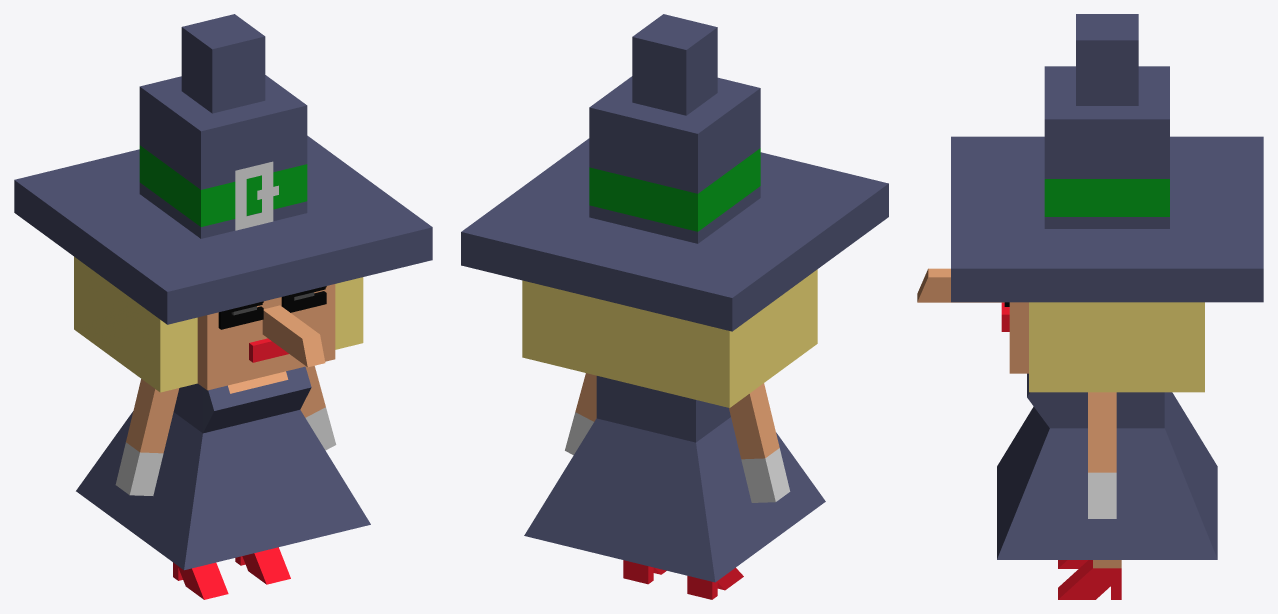
3 renders of one model, left to right at view 1: azimuth 30°, elevation 25°; view 2: azimuth 150°, elevation 25°; view 3: azimuth 270°, elevation 25°, orthographic. The views are drawn at different scales.
Parts seen in each view (by area): view 1: Ch_47_Head, Ch_47, Ch_47_Chest, Ch_47_Hand_L, Ch_47_Hand_R, Ch_47_Leg_L, Ch_47_Leg_R, Ch_47_Eye_03_L, Ch_47_Eye_03_R; view 2: Ch_47_Head, Ch_47, Ch_47_Chest, Ch_47_Hand_L, Ch_47_Hand_R, Ch_47_Leg_L, Ch_47_Leg_R; view 3: Ch_47_Head, Ch_47, Ch_47_Chest, Ch_47_Hand_R, Ch_47_Leg_R.
Part boxes in pixels (x1=…): Ch_47_Head: x1=14, y1=14, x2=432, y2=392; Ch_47: x1=76, y1=410, x2=370, y2=570; Ch_47_Chest: x1=173, y1=366, x2=311, y2=433; Ch_47_Hand_L: x1=115, y1=379, x2=179, y2=495; Ch_47_Hand_R: x1=300, y1=366, x2=336, y2=450; Ch_47_Leg_L: x1=173, y1=562, x2=228, y2=599; Ch_47_Leg_R: x1=235, y1=547, x2=290, y2=584; Ch_47_Eye_03_L: x1=218, y1=301, x2=263, y2=329; Ch_47_Eye_03_R: x1=281, y1=286, x2=326, y2=312; Ch_47_Head: x1=461, y1=14, x2=888, y2=407; Ch_47: x1=524, y1=417, x2=825, y2=582; Ch_47_Chest: x1=596, y1=376, x2=730, y2=442; Ch_47_Hand_L: x1=729, y1=383, x2=790, y2=502; Ch_47_Hand_R: x1=565, y1=373, x2=596, y2=454; Ch_47_Leg_L: x1=687, y1=567, x2=743, y2=599; Ch_47_Leg_R: x1=623, y1=560, x2=666, y2=584; Ch_47_Head: x1=917, y1=14, x2=1263, y2=392; Ch_47: x1=997, y1=392, x2=1217, y2=559; Ch_47_Chest: x1=1027, y1=373, x2=1164, y2=428; Ch_47_Hand_R: x1=1088, y1=392, x2=1116, y2=518; Ch_47_Leg_R: x1=1058, y1=560, x2=1121, y2=599.
Size of the model in its own units: 6.98 by 13.57 by 7.73.
